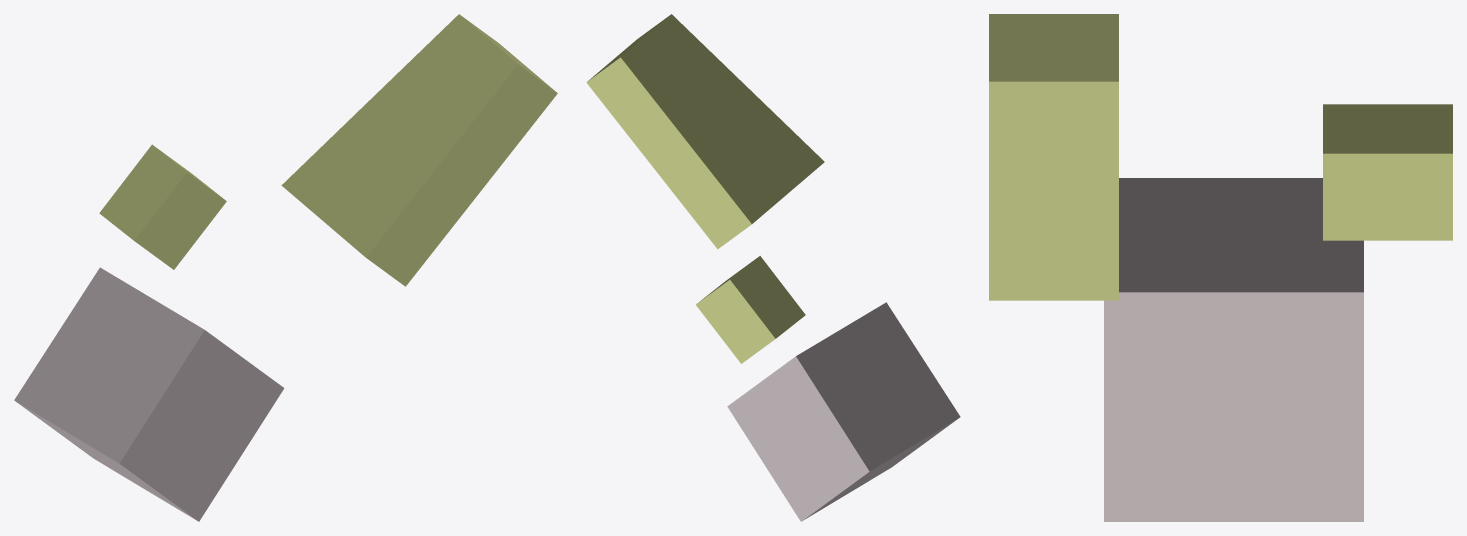
3 renders of one model, left to right at view 1: azimuth 30°, elevation 25°; view 2: azimuth 150°, elevation 25°; view 3: azimuth 270°, elevation 25°, orthographic. The views are drawn at different scales.
Parts seen in each view (by area): view 1: 0_3_0_2_2_1_0_2_2; view 2: 0_3_0_2_2_1_0_2_2; view 3: 0_3_0_2_2_1_0_2_2.
Part boxes in pixels (left/top/right/bottom): 0_3_0_2_2_1_0_2_2: left=14, top=14, right=557, bottom=521; 0_3_0_2_2_1_0_2_2: left=586, top=14, right=960, bottom=521; 0_3_0_2_2_1_0_2_2: left=989, top=14, right=1452, bottom=521.
Size of the model in its own units: 37.35 by 36.6 by 21.4.
